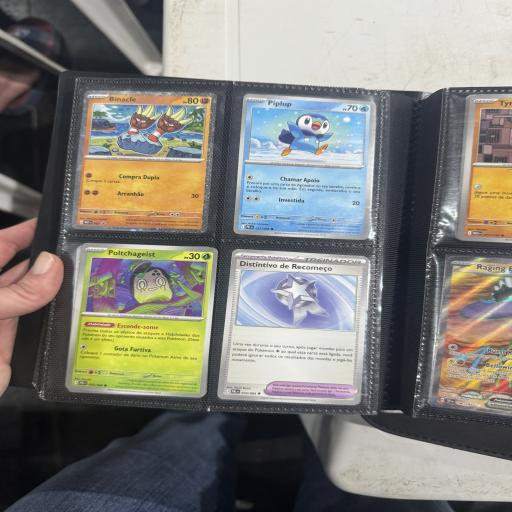card: (65, 238, 218, 399), (216, 248, 371, 406), (69, 87, 218, 234), (232, 94, 377, 241)
